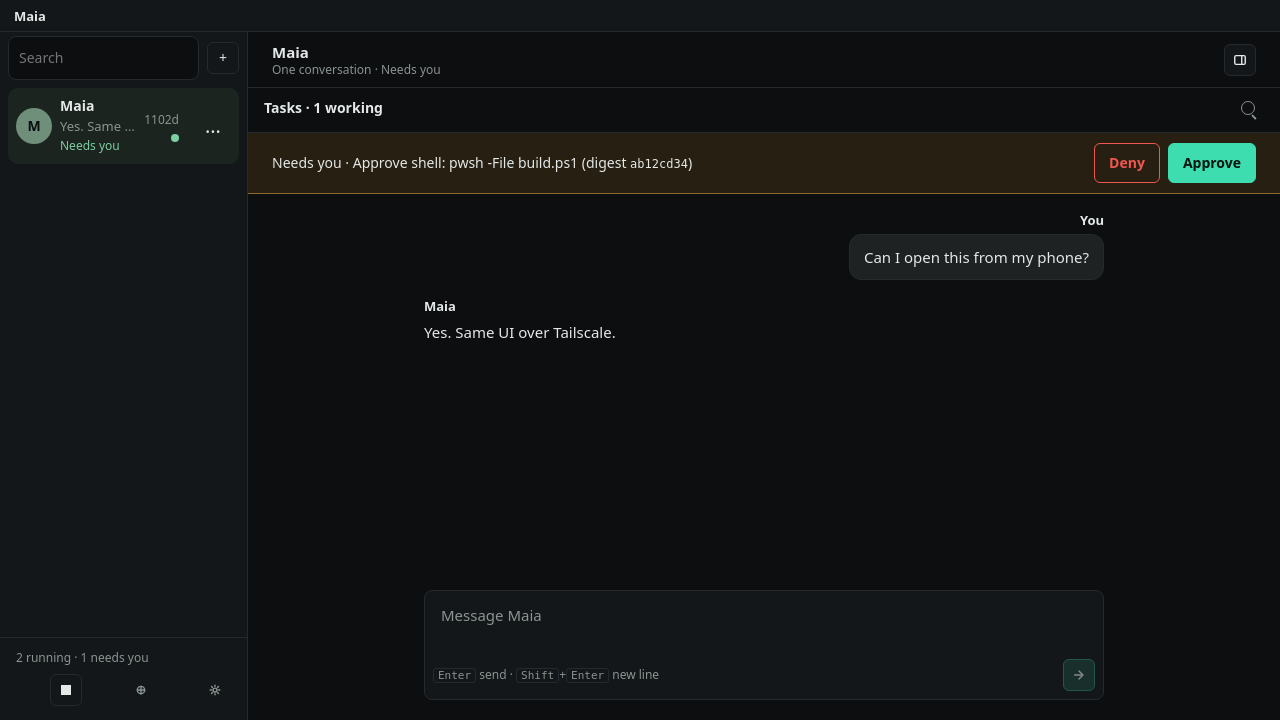
Test: AppShell layout › opens the shared brain map from the rail
Click the button named "Brain". click: (141, 690)
box: [125,674,157,706]
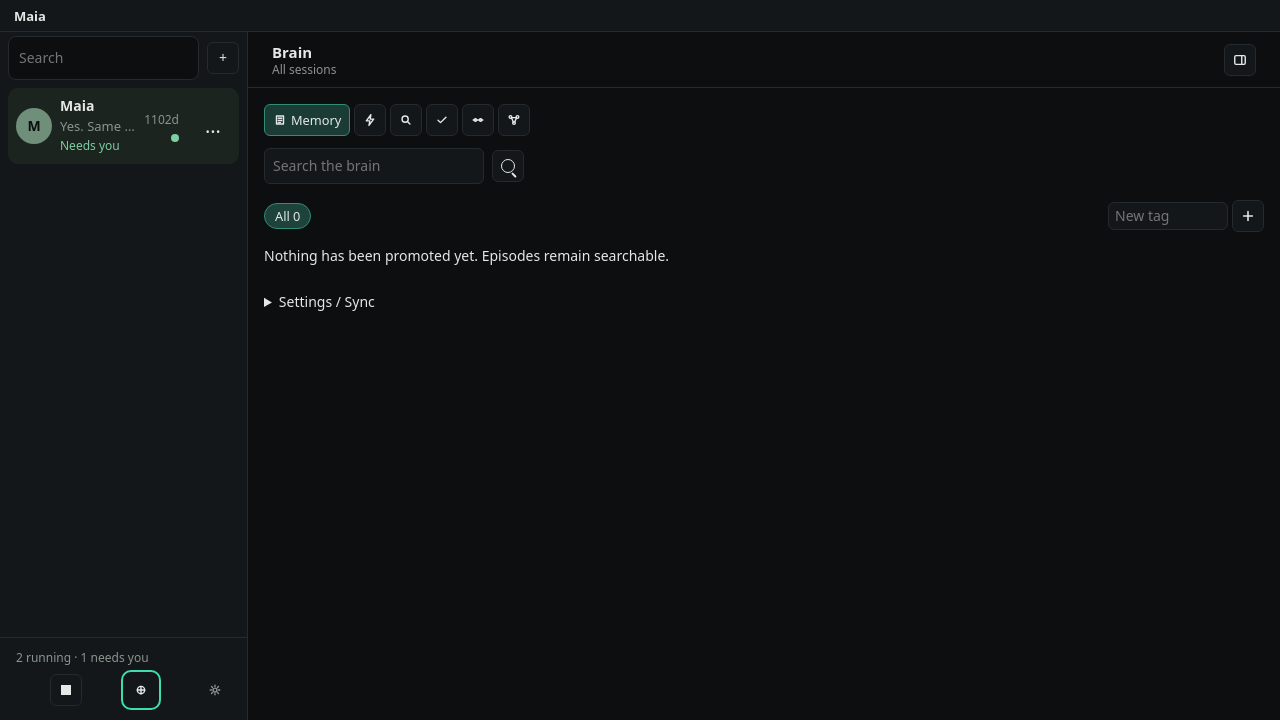
Check: the field labelled "Message" is not shown
Check: the heading "Brain" is shown, box [272,42,312,62]
Check: the text "Nothing has been promoted yet. Episodes remain searchable." is shown, box [264,246,669,265]
